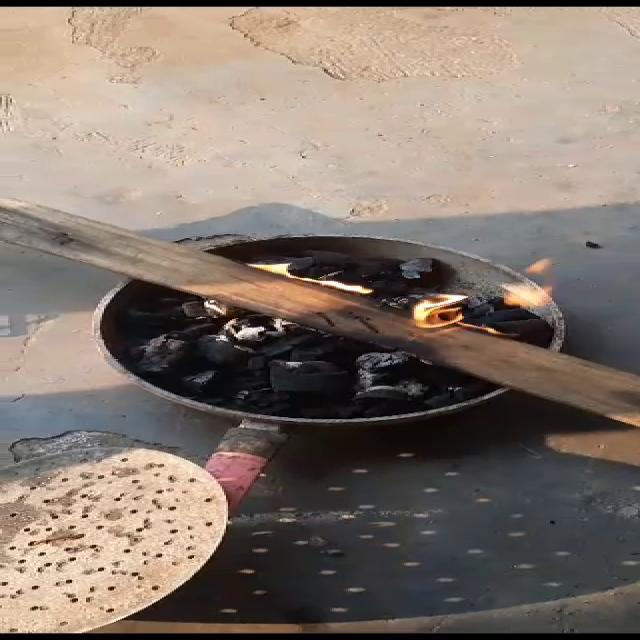Fire: (247, 238, 578, 338)
